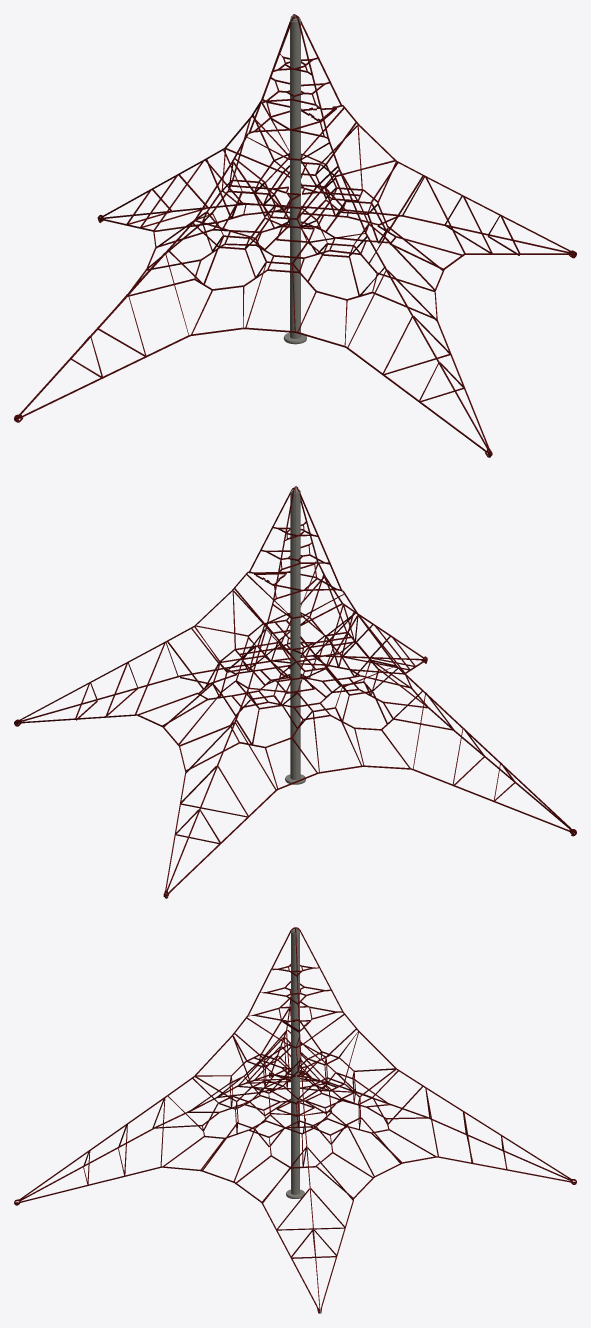
3 renders of one model, top to bottom at view 1: azimuth 30°, elevation 25°; view 2: azimuth 150°, elevation 25°; view 3: azimuth 270°, elevation 25°, orthographic. The views are drawn at different scales.
Parts seen in each view (by area): view 1: playground; view 2: playground; view 3: playground.
Boxes of the visible parts, box(x1,y1,x2,y2) form: playground: box(14, 14, 576, 457); playground: box(14, 486, 576, 898); playground: box(14, 927, 576, 1313).
Bounding box in the file's own units: 785 × 412 × 784.
